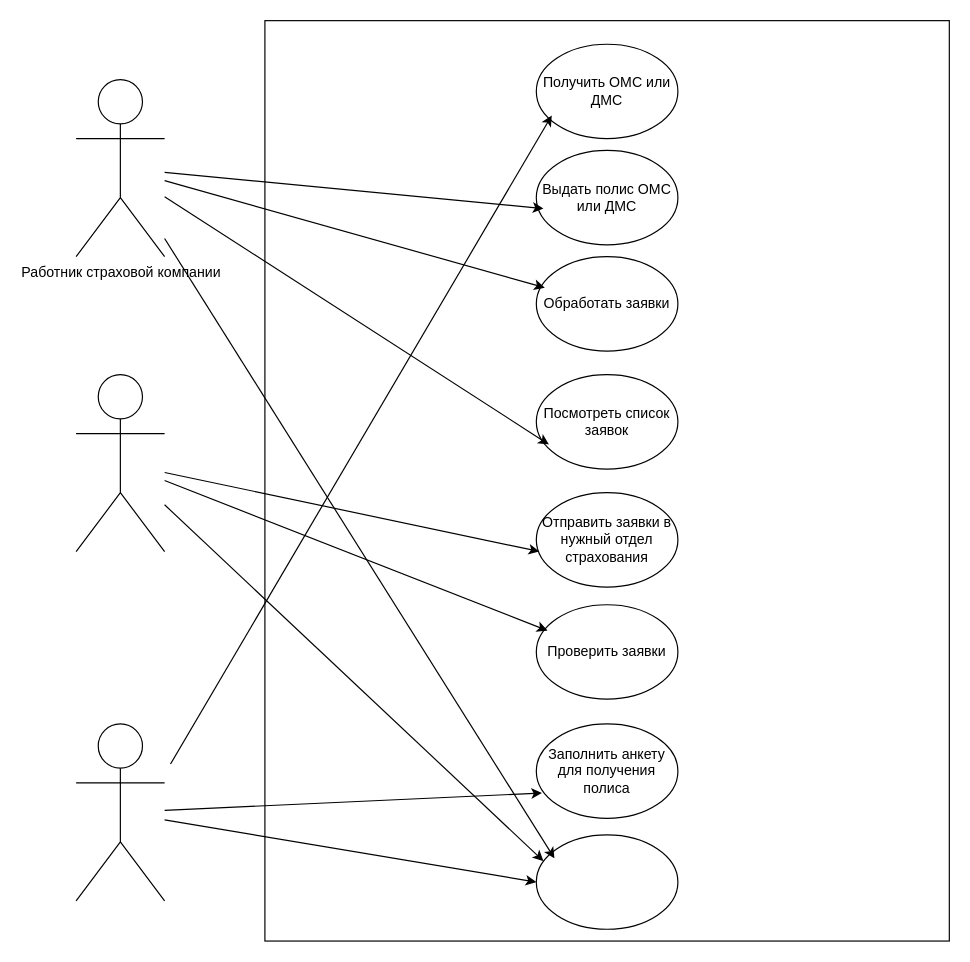
Some shapes in this 970 by 962 pixel diagram are drawn without their labels. The shapes that lost their labels are listed below. From the top down, each one's centre as x and y in pixels, then its label:
At (x=120, y=462): "Администратор системы".
At (x=120, y=812): "Соискатель".
At (x=606, y=881): "Войти в систему".
